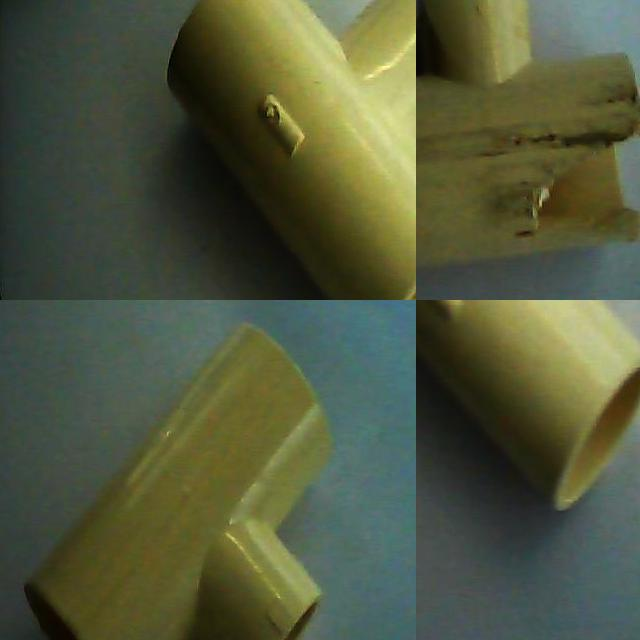Defective: (522, 122, 636, 233)
T Joint: (23, 324, 334, 640), (166, 0, 416, 300), (416, 0, 640, 274), (416, 300, 640, 514)
